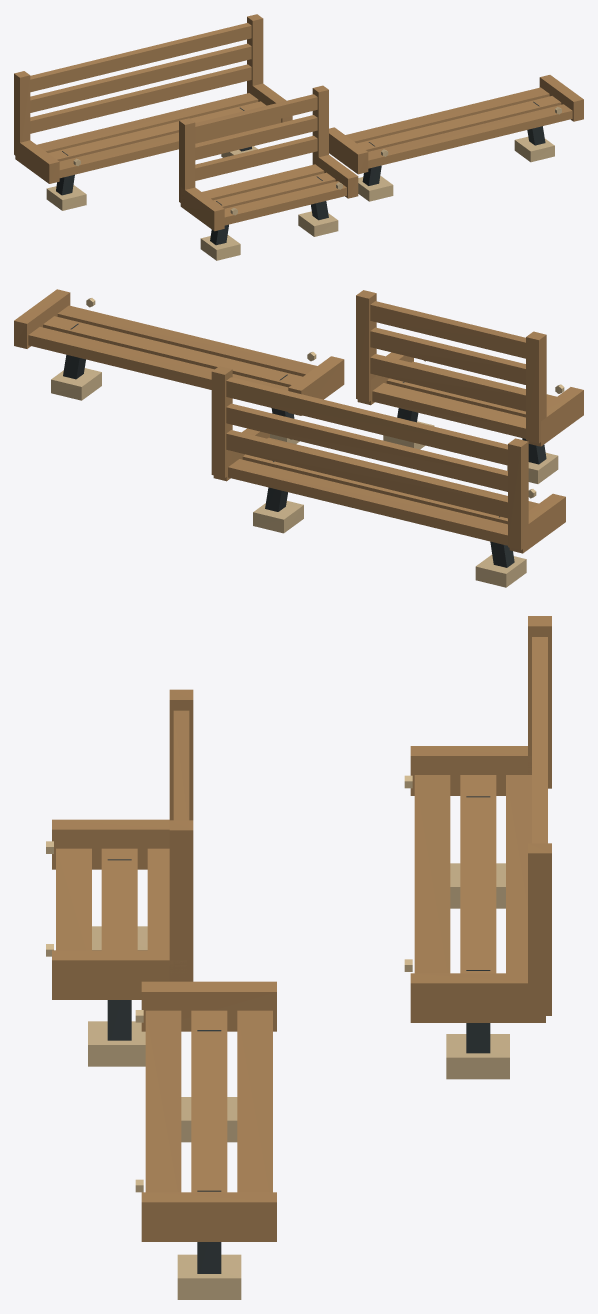
Rendered from Benches.glb.
3 renders of one model, top to bottom at view 1: azimuth 30°, elevation 25°; view 2: azimuth 150°, elevation 25°; view 3: azimuth 270°, elevation 25°, orthographic. The views are drawn at different scales.
Parts seen in each view (by area): view 1: benches-static-benches-warm-timber-slats, benches-static-benches-muted-teal-end-plates, benches-static-benches-pale-stone-feet, benches-static-benches-charcoal-supports; view 2: benches-static-benches-warm-timber-slats, benches-static-benches-muted-teal-end-plates, benches-static-benches-pale-stone-feet, benches-static-benches-charcoal-supports; view 3: benches-static-benches-warm-timber-slats, benches-static-benches-muted-teal-end-plates, benches-static-benches-pale-stone-feet, benches-static-benches-charcoal-supports.
Boxes of the visible parts, x1,y1,x2,y2 form: benches-static-benches-warm-timber-slats: [30, 23, 572, 225]; benches-static-benches-muted-teal-end-plates: [14, 14, 583, 231]; benches-static-benches-pale-stone-feet: [46, 136, 554, 260]; benches-static-benches-charcoal-supports: [56, 101, 545, 245]; benches-static-benches-warm-timber-slats: [28, 301, 556, 545]; benches-static-benches-muted-teal-end-plates: [14, 289, 583, 553]; benches-static-benches-pale-stone-feet: [51, 368, 558, 587]; benches-static-benches-charcoal-supports: [63, 323, 546, 567]; benches-static-benches-warm-timber-slats: [56, 637, 547, 1192]; benches-static-benches-muted-teal-end-plates: [52, 616, 551, 1241]; benches-static-benches-pale-stone-feet: [88, 863, 509, 1299]; benches-static-benches-charcoal-supports: [107, 796, 490, 1273].
Bounding box in the file's own units: 5.42 × 1.37 × 2.54.
